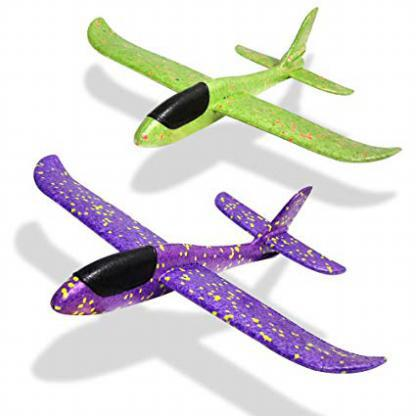CIV_Plane: (28, 151, 389, 388), (82, 6, 404, 170)
